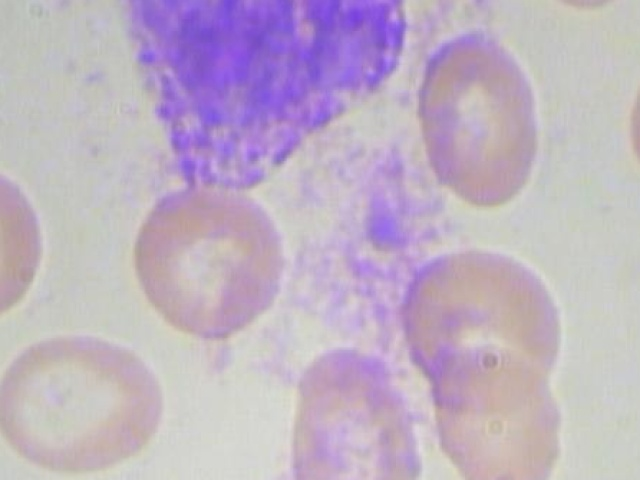RBC: (123, 179, 305, 342), (0, 319, 171, 480), (413, 31, 553, 210), (278, 337, 422, 480), (428, 334, 567, 480), (0, 164, 51, 325), (618, 35, 640, 193), (519, 0, 640, 12), (387, 0, 531, 2)
